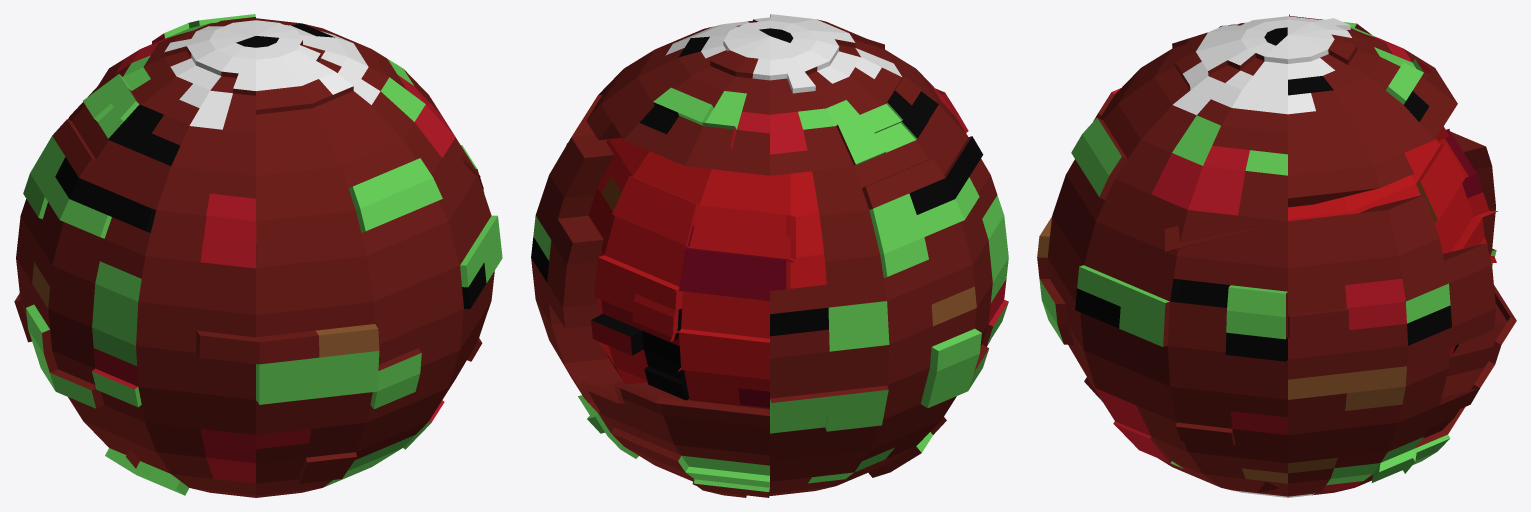
File: upgradedPlanet.fbx
3 renders of one model, left to right at view 1: azimuth 30°, elevation 25°; view 2: azimuth 150°, elevation 25°; view 3: azimuth 270°, elevation 25°, orthographic.
Parts seen in each view (by area): view 1: Sphere; view 2: Sphere, Sphere.001; view 3: Sphere, Sphere.001.
Part boxes in pixels (x1,y1,x2,y2): Sphere: (14, 14, 502, 497); Sphere: (531, 14, 1008, 497); Sphere.001: (588, 137, 826, 408); Sphere: (1037, 14, 1516, 497); Sphere.001: (1288, 126, 1498, 354).
Size of the model in its own units: 206 by 202 by 200.
